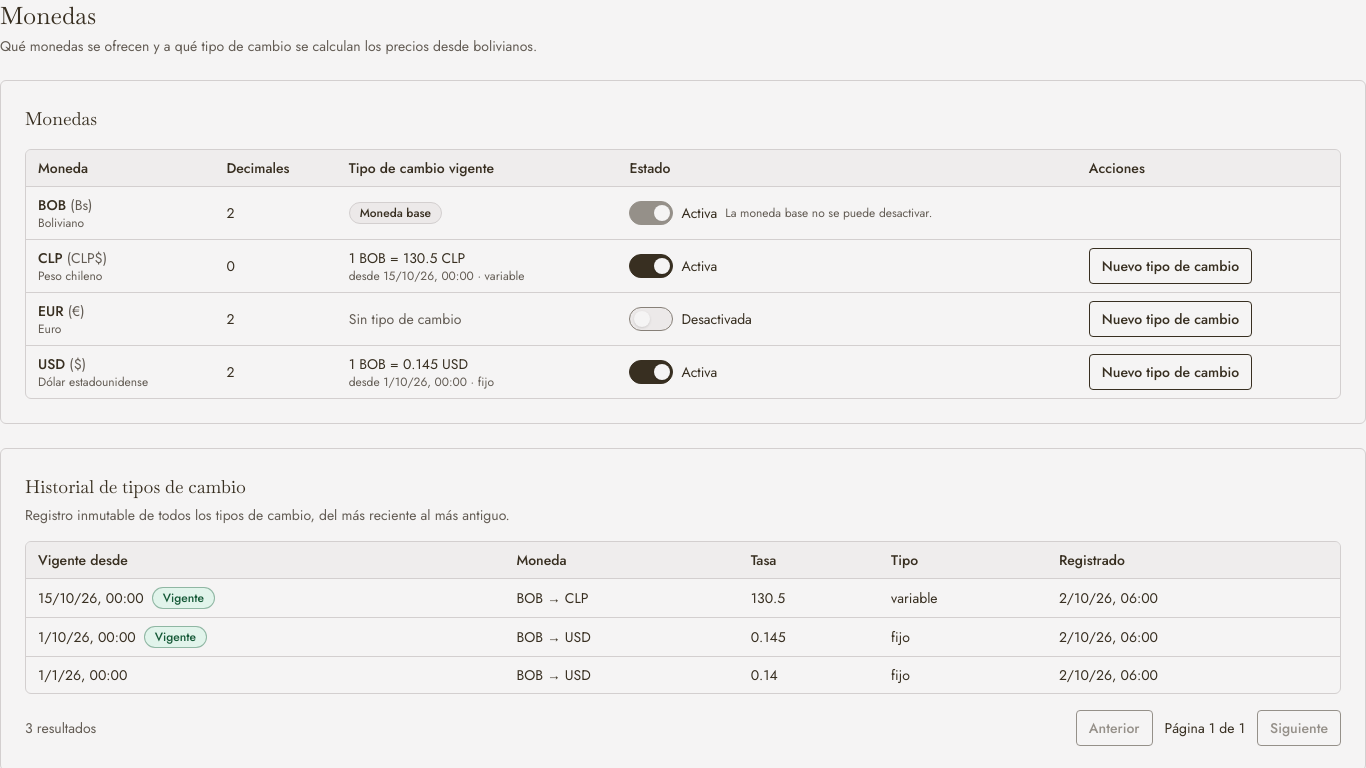
Test: CurrenciesPage: nuevo tipo de cambio › explica que el registro es inmutable, muestra la tasa vigente y arranca vigente desde AHORA (hora de La Paz)
Click the button "Nuevo tipo de cambio" in the row of "Dólar estadounidense" at [1170, 372], box top-left (1089, 354), bottom-right (1252, 390)
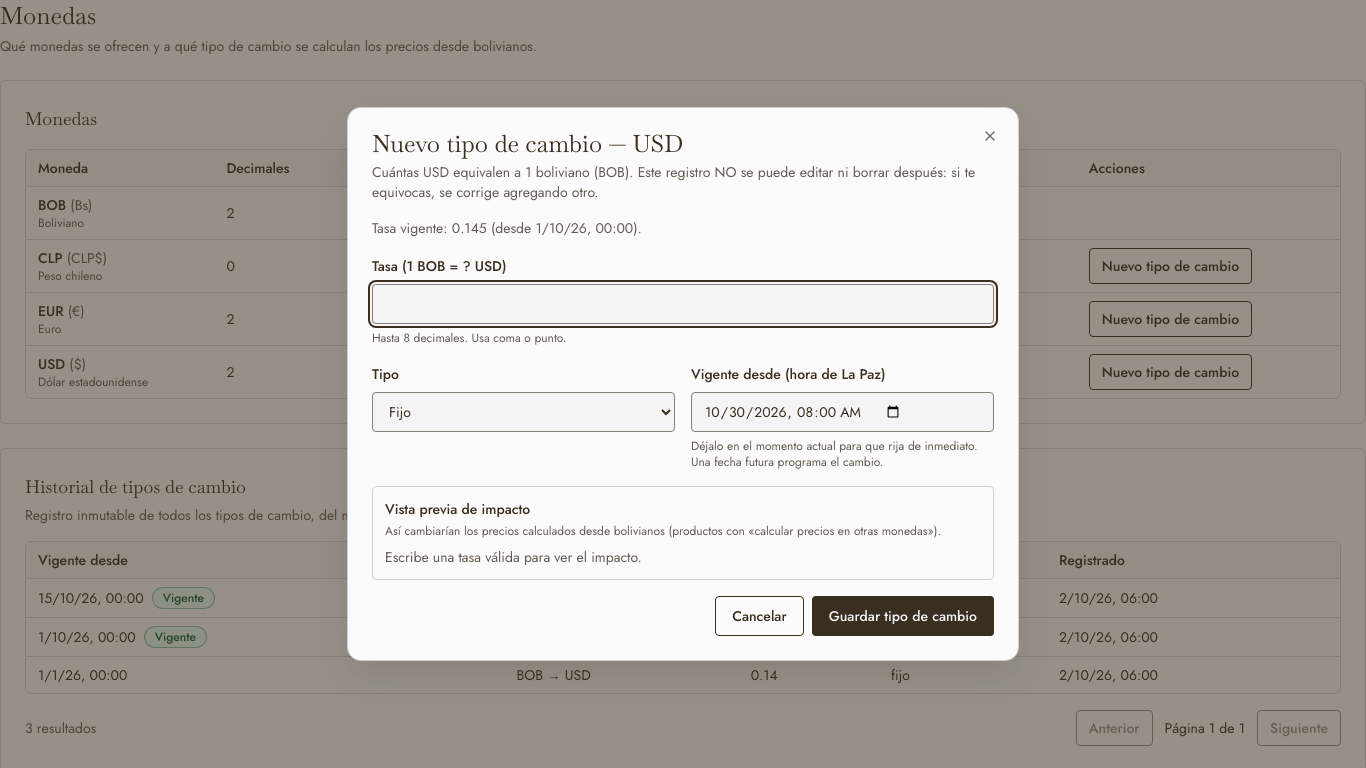
Check: the text "NO se puede editar ni borrar después" is shown, box top-left (372, 162), bottom-right (975, 202)
Check: the text "Tasa vigente: 0.145 (desde 1/10/26, 00:00)." is shown, box top-left (372, 218), bottom-right (642, 238)
Check: the field labelled "Vigente desde (hora de La Paz)" holds "2026-10-30T08:00", box top-left (691, 392), bottom-right (994, 432)
